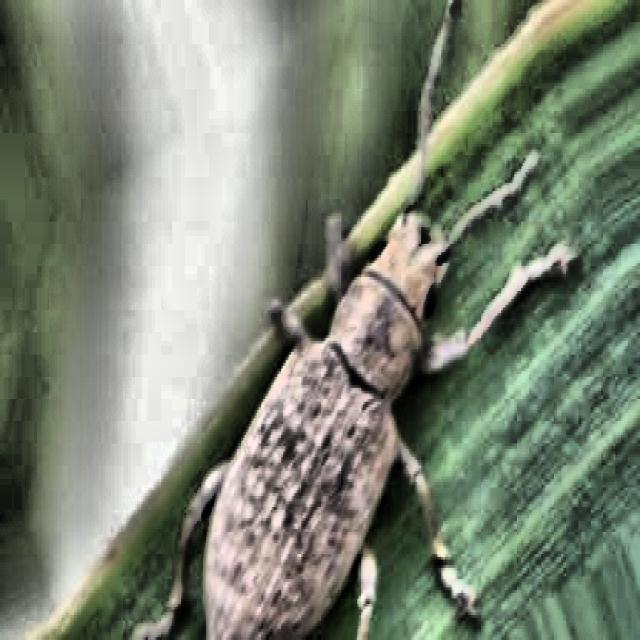Stink bug: (133, 91, 522, 640)
